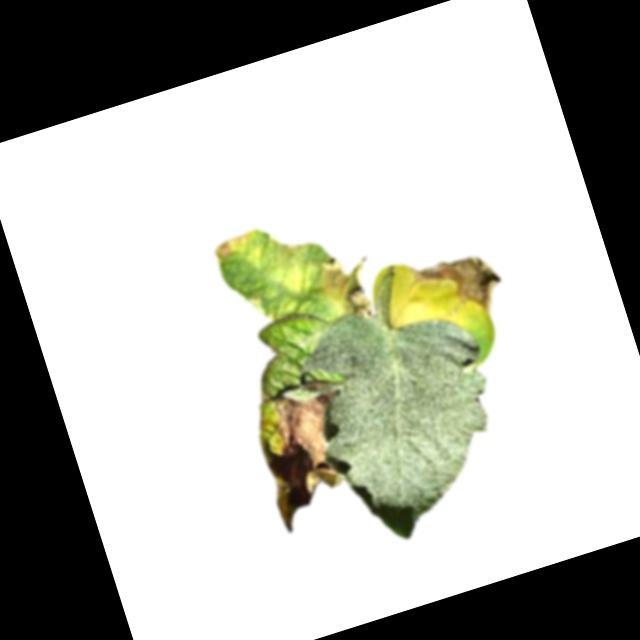Late_blight: (265, 379, 353, 498), (406, 240, 512, 332), (310, 245, 387, 329), (210, 228, 258, 264)
healthy: (295, 282, 527, 551)
